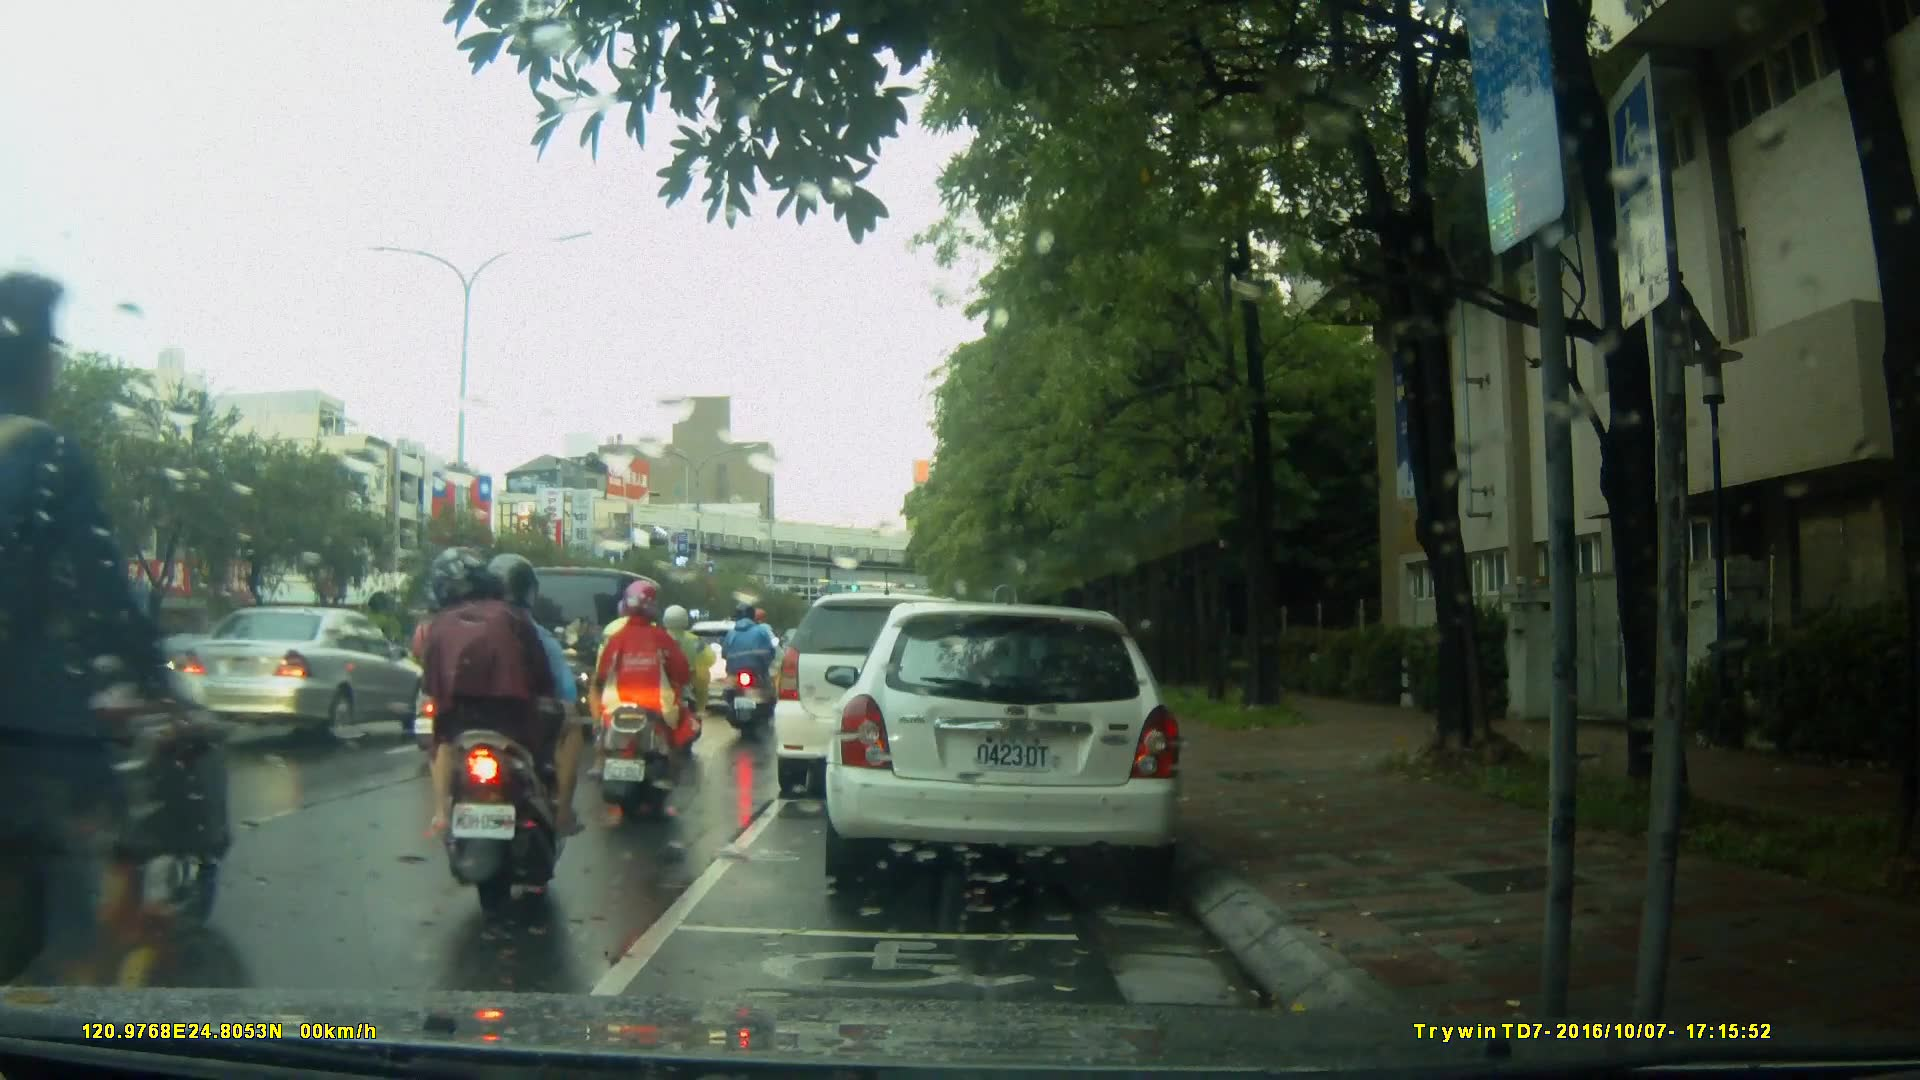rider: (2, 289, 234, 1079), (423, 547, 582, 914), (604, 582, 700, 822), (599, 589, 688, 785), (408, 587, 484, 752), (638, 596, 716, 753), (724, 595, 776, 736)
vehicle: (822, 604, 1188, 883), (774, 595, 995, 802), (160, 606, 450, 745)
